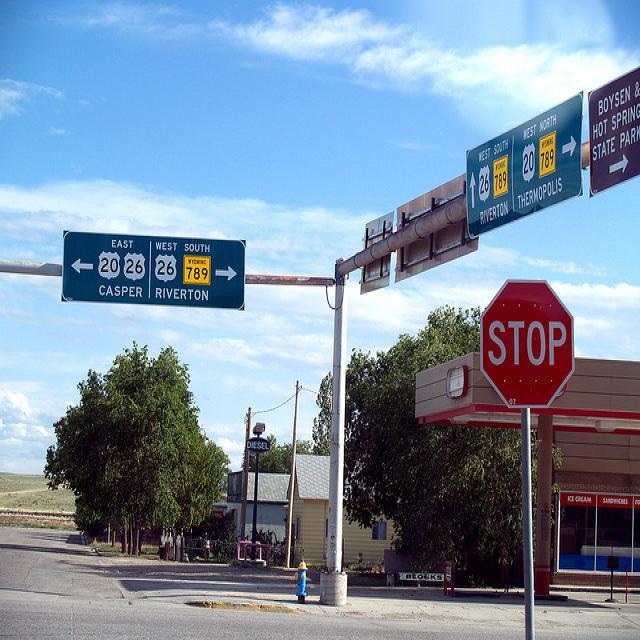fire_hydrant: (294, 558, 307, 602)
